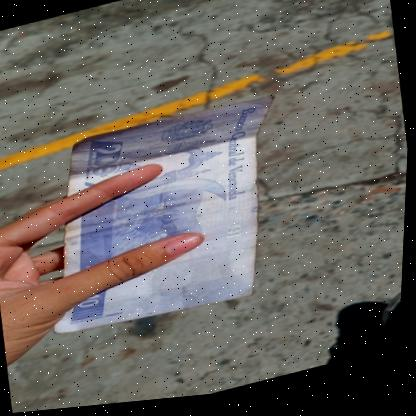ten-back-vef: (27, 95, 305, 348)
